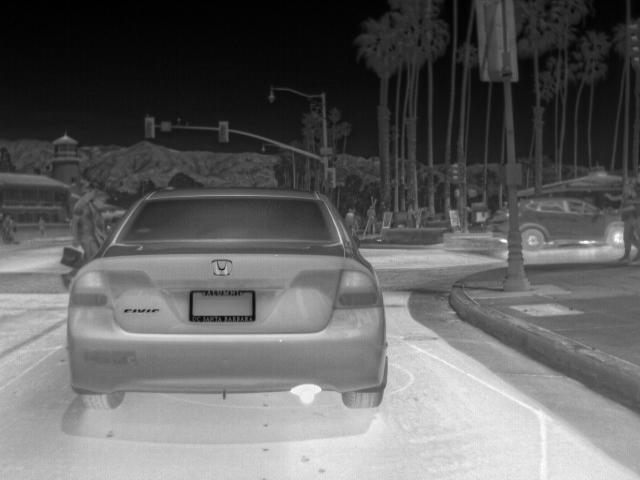car: (62, 184, 384, 412), (517, 198, 626, 250), (490, 205, 509, 241)
person: (604, 177, 639, 265), (74, 188, 97, 266), (93, 190, 112, 253), (0, 214, 16, 234), (35, 215, 47, 239)
